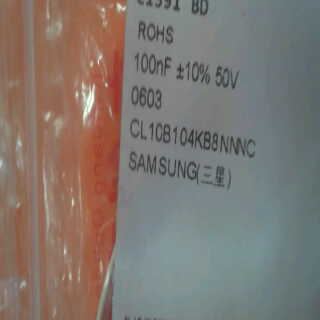100nF: (129, 48, 175, 81)
